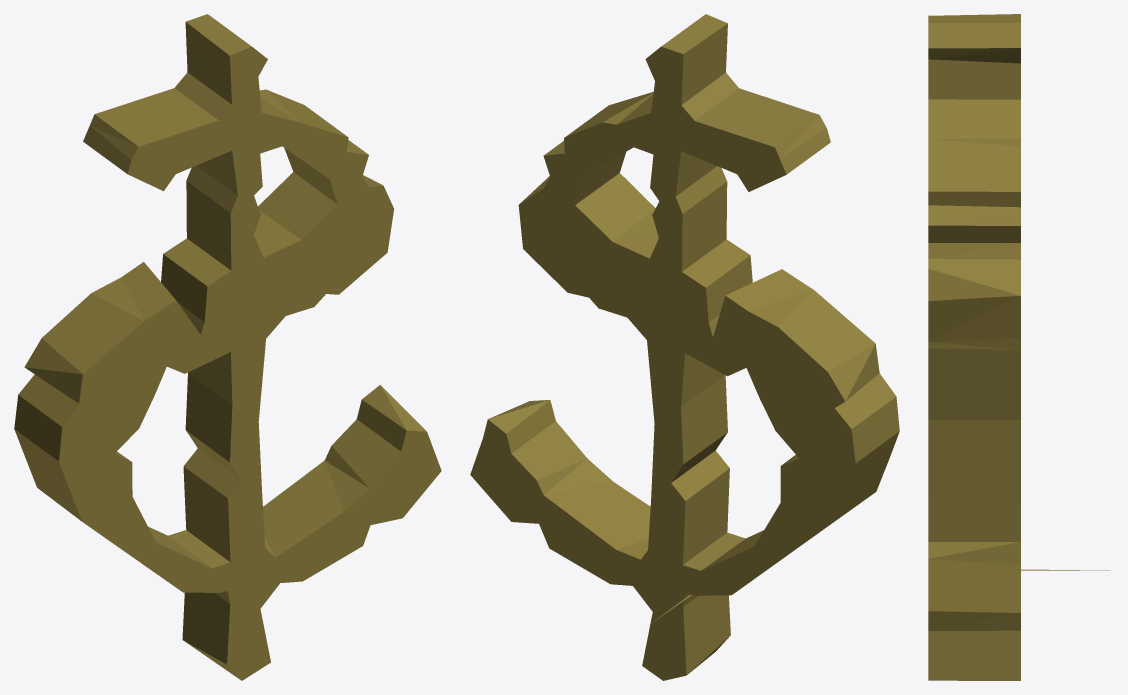
Rendered from Cash Symbol Model Colour (diff Rotation).fbx.
3 renders of one model, left to right at view 1: azimuth 30°, elevation 25°; view 2: azimuth 150°, elevation 25°; view 3: azimuth 270°, elevation 25°, orthographic. The views are drawn at different scales.
Parts seen in each view (by area): view 1: Text; view 2: Text; view 3: Text.
Part boxes in pixels (x1=…): Text: x1=14, y1=14, x2=441, y2=680; Text: x1=470, y1=14, x2=899, y2=680; Text: x1=928, y1=14, x2=1110, y2=680.
Bounding box in the file's own units: 24.95 × 39.29 × 10.
